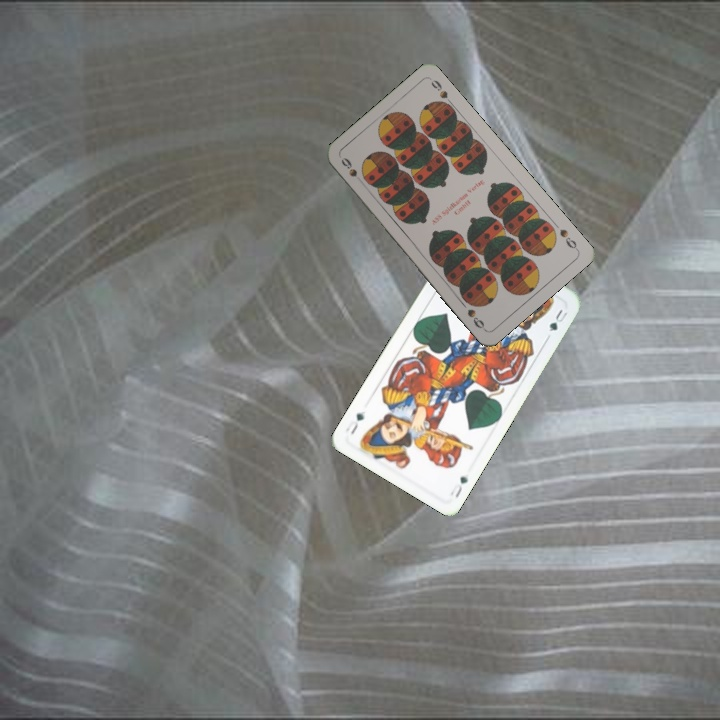GU: (446, 472, 470, 500)
S9: (337, 153, 367, 188), (556, 225, 581, 253)
